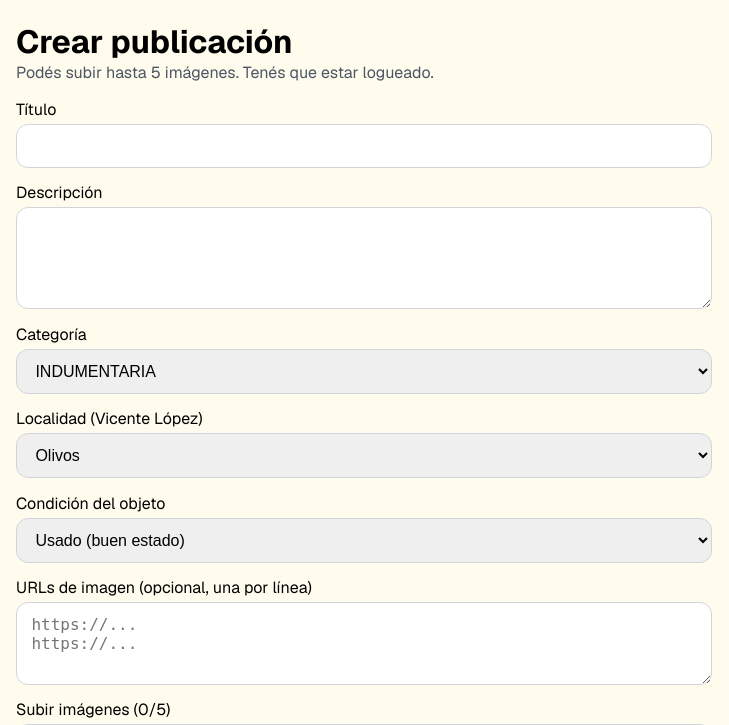
CrearPublicacionPage › muestra error si no hay imágenes
Type "Mesa de comedor" into the field labelled "Título" at (364, 146), box x1=16 y1=124 x2=712 y2=168
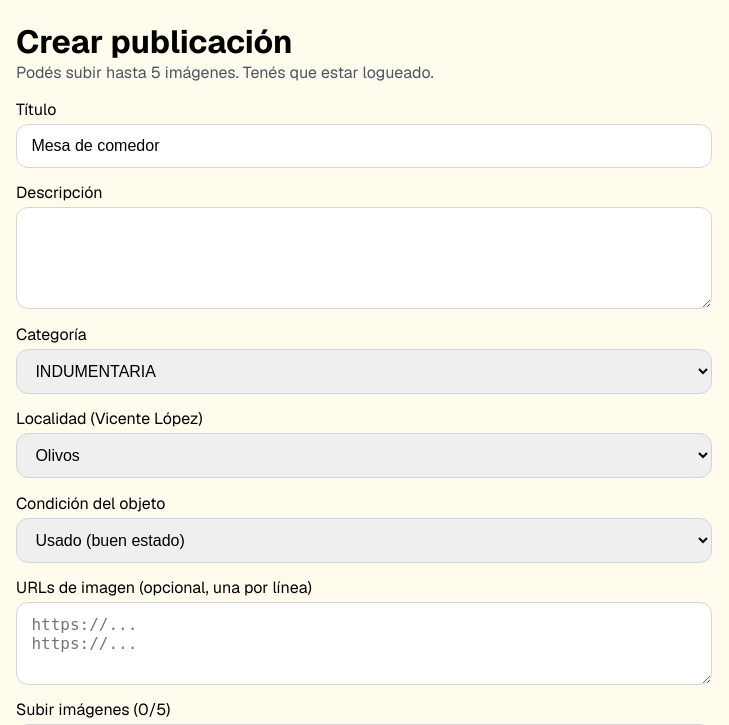
Type "Mesa en buen estado para donar a una familia." into the text box labelled "Descripción" at (364, 258), box x1=16 y1=207 x2=712 y2=309
(page scrolled)
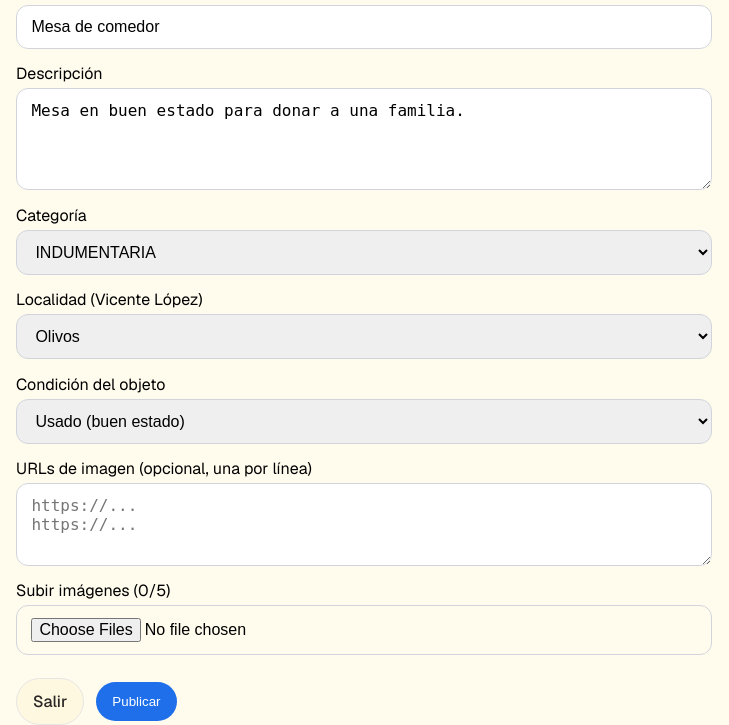
Click the button "Publicar" at (136, 701), box x1=96 y1=682 x2=177 y2=721
(page scrolled)
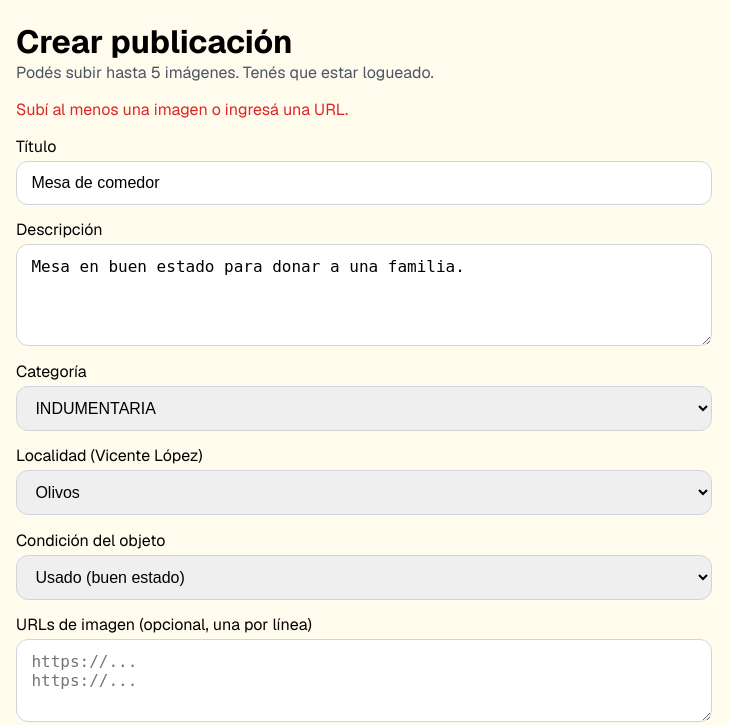
expect the text "Subí al menos una imagen o ingresá una URL." is shown: met, box x1=16 y1=99 x2=348 y2=120
